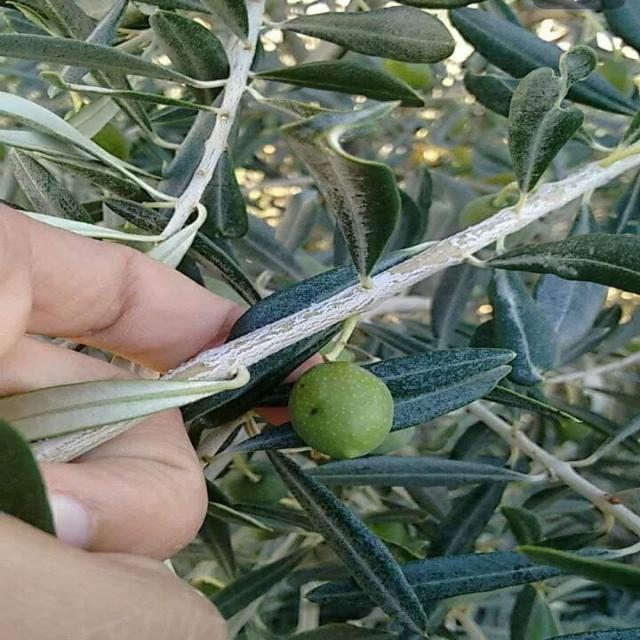Anthracnose: (289, 361, 393, 458)
